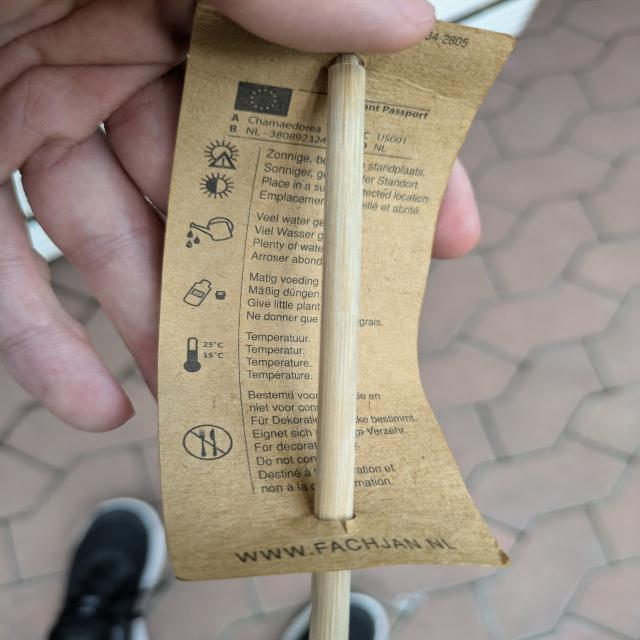dungen: (180, 270, 238, 320)
halb sonnig schattig: (194, 168, 238, 200)
keine Sonne: (203, 130, 250, 173)
viel giesen: (179, 209, 236, 255)
